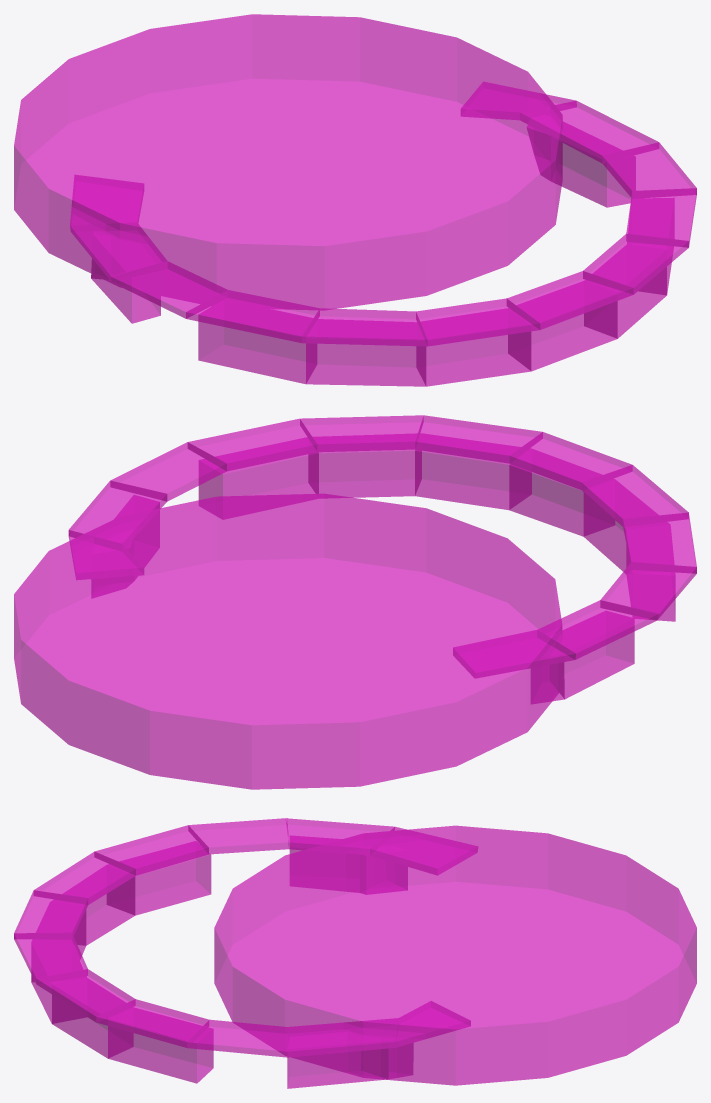
The model's file is SM_Prop_Bar_Round_01_Collision.fbx.
The picture shows the model from 3 angles, top to bottom: view 1: azimuth 30°, elevation 25°; view 2: azimuth 150°, elevation 25°; view 3: azimuth 270°, elevation 25°; orthographic projection. The views are drawn at different scales.
Visible parts, largest first — view 1: SM_Prop_Bar_Round_01_Collision; view 2: SM_Prop_Bar_Round_01_Collision; view 3: SM_Prop_Bar_Round_01_Collision.
Part boxes in pixels (x1,y1,x2,y2): SM_Prop_Bar_Round_01_Collision: (14,14,696,386); SM_Prop_Bar_Round_01_Collision: (14,415,696,789); SM_Prop_Bar_Round_01_Collision: (14,818,696,1088).
Size of the model in its own units: 911 by 102 by 1125.
